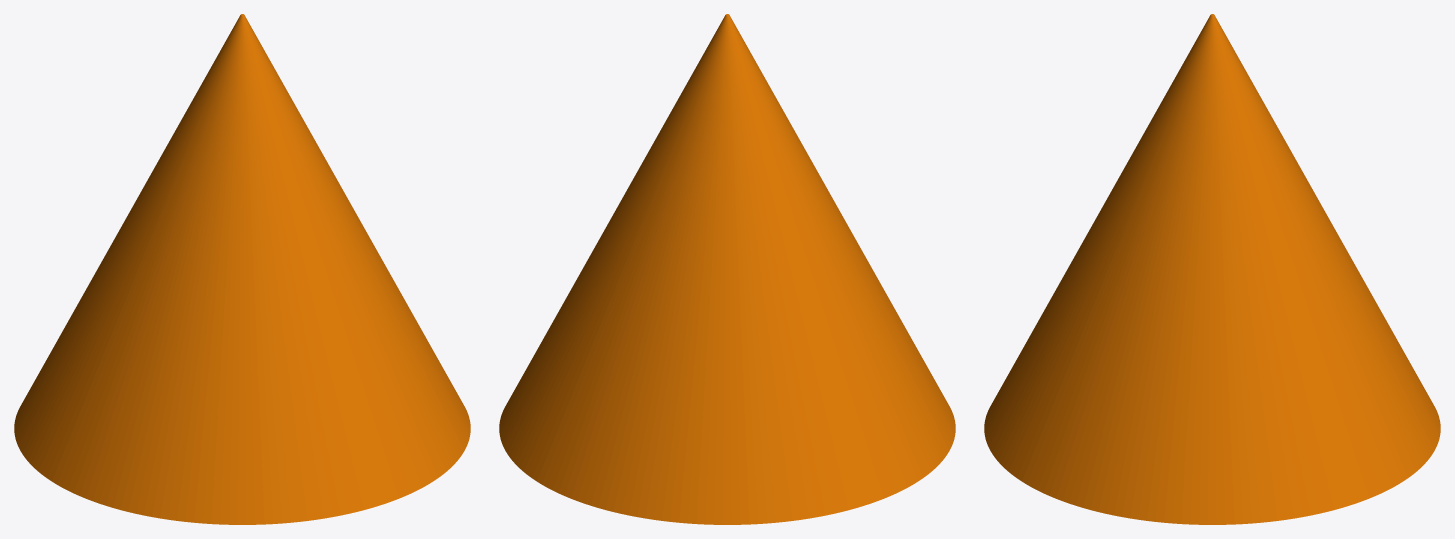
The model's file is конус.fbx.
The picture shows the model from 3 angles, left to right: view 1: azimuth 30°, elevation 25°; view 2: azimuth 150°, elevation 25°; view 3: azimuth 270°, elevation 25°; orthographic projection.
Visible parts, largest first — view 1: Cylinder; view 2: Cylinder; view 3: Cylinder.
Part boxes in pixels (x1,y1,x2,y2): Cylinder: (14, 14, 470, 524); Cylinder: (499, 14, 955, 524); Cylinder: (984, 14, 1440, 524).
Bounding box in the file's own units: 277 × 277 × 277.
